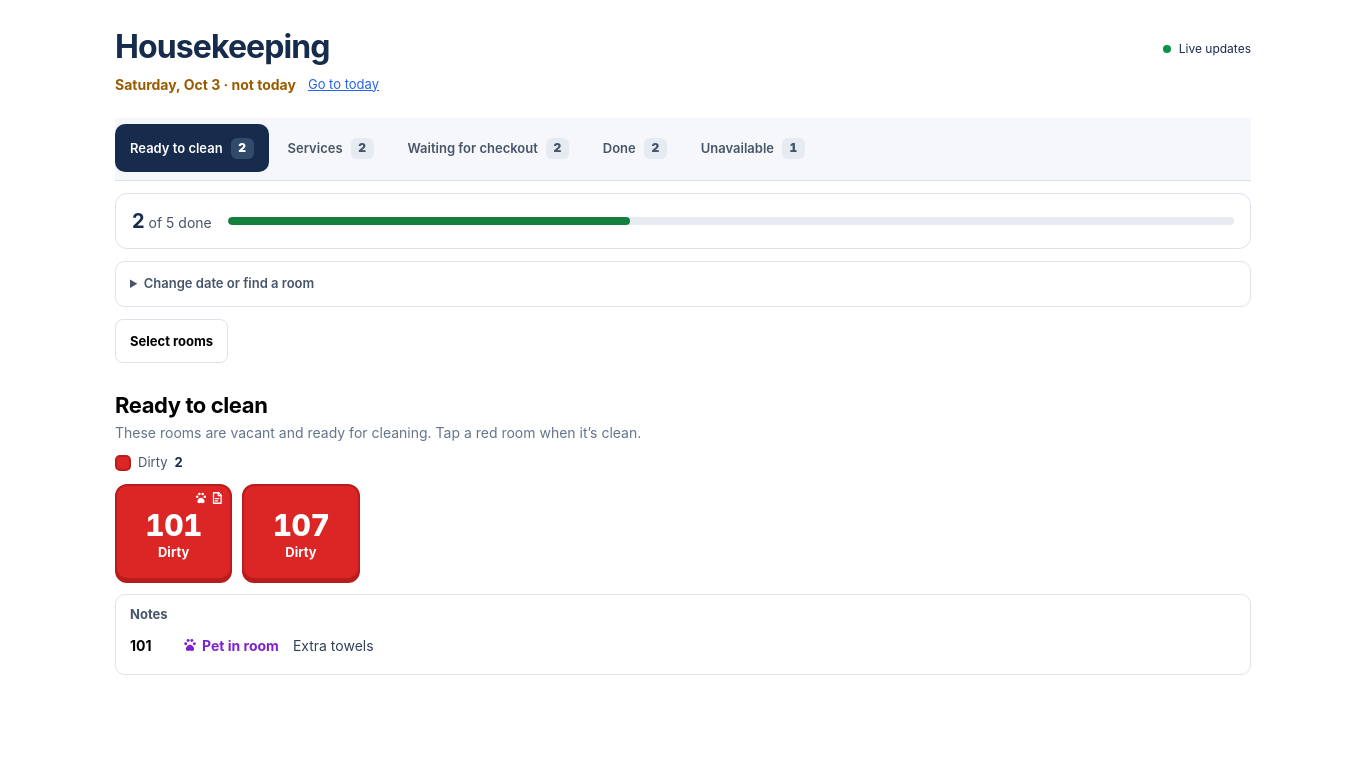
Scenario: selection uses room checkboxes and marks only selected ready rooms clean together
The image size is (1366, 765).
Check: the list item with aria-label "Room 101, Dirty" is shown, box [115,484,232,580]
Click the button "Select rooms" at (172, 341), box [115,319,228,363]
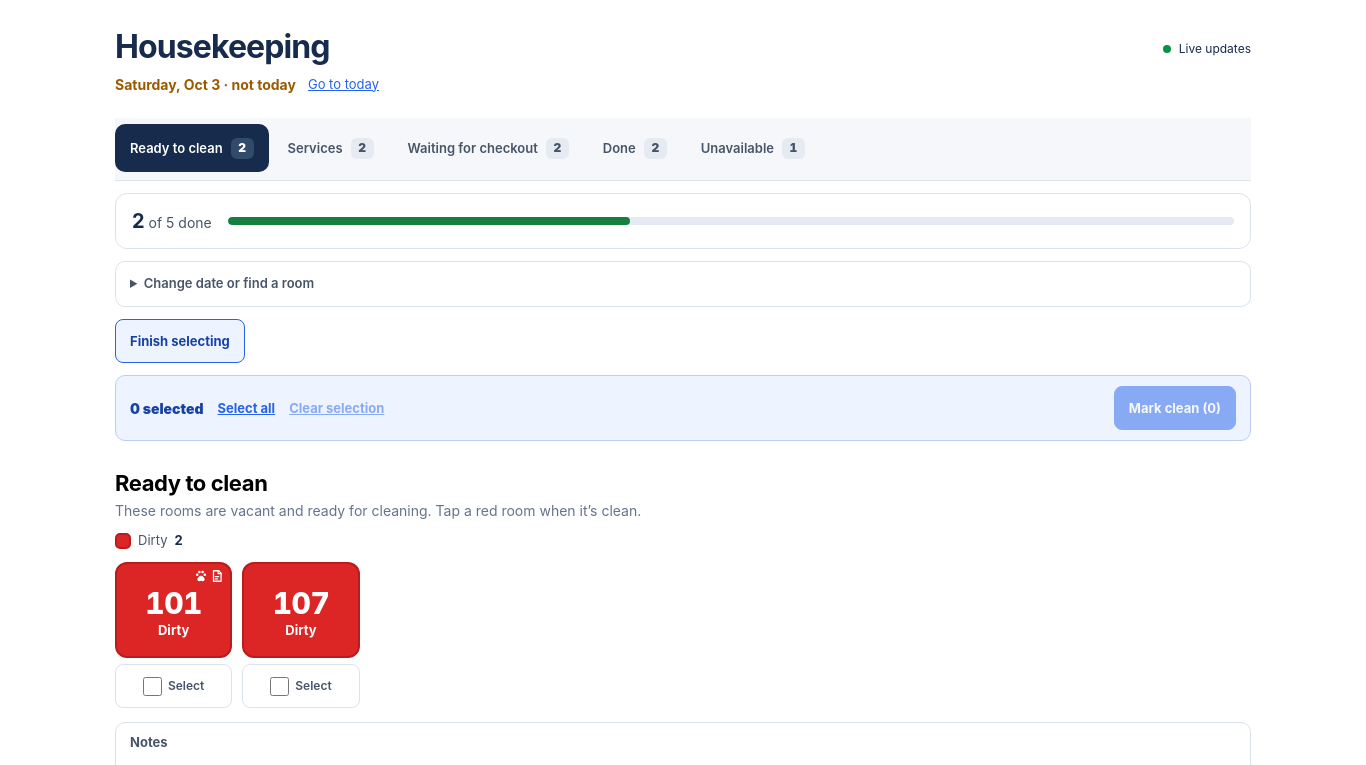
Check: the button with aria-label "Select rooms" is pressed, box [115,319,245,363]
Click the checkbox named "Select room 101" at (152, 686), box [143,677,162,696]
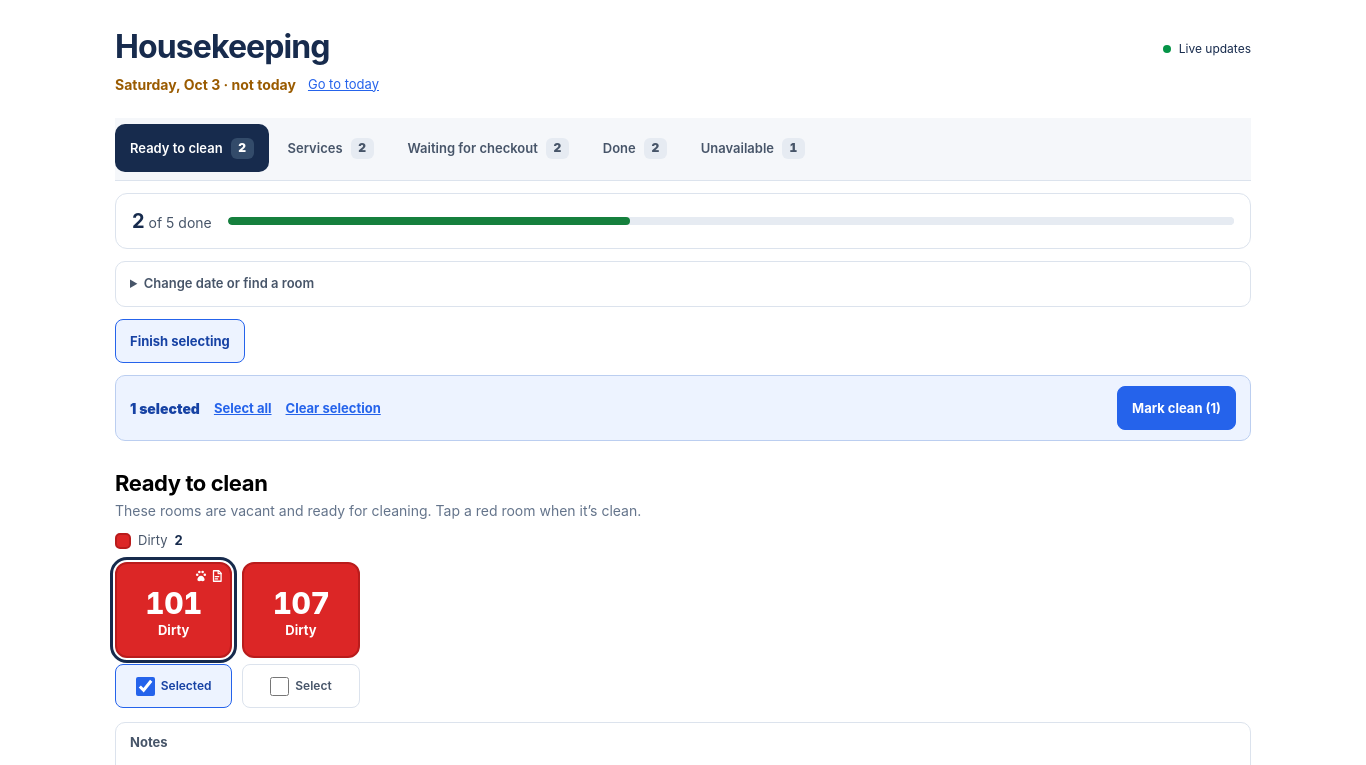
Check: the checkbox named "Select room 107" is not checked, box [270,677,289,696]
Check: the element named "Selected rooms" shows "1 selected", box [115,375,1251,441]
Click the button with aria-label "Select all visible rooms" at (243, 408), box [214,386,272,430]
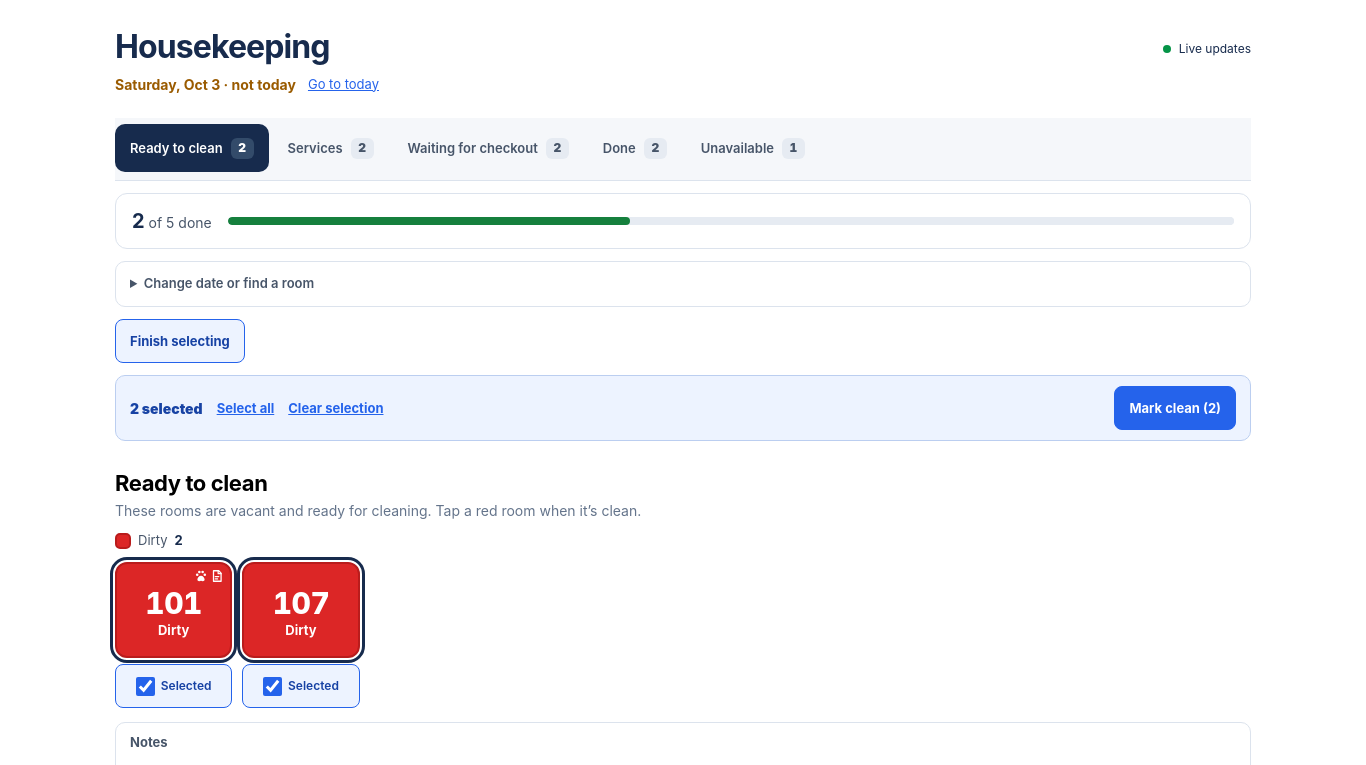
Click the button with aria-label "Mark selected rooms clean" at (1175, 408), box [1114,386,1236,430]
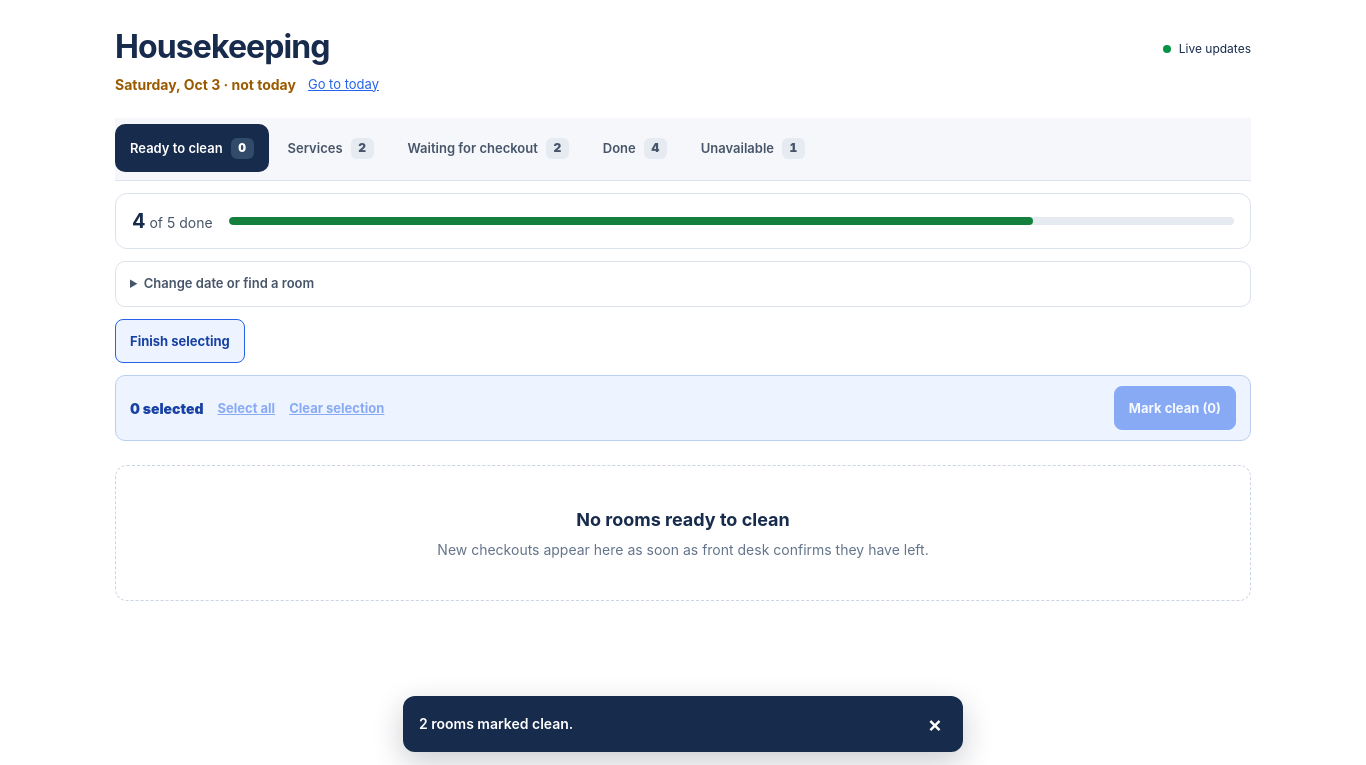
Check: the text "2 rooms marked clean." is shown, box [419,715,573,732]
Check: the heading "No rooms ready to clean" is shown, box [576,509,790,530]
Check: the element named "Selected rooms" shows "0 selected", box [115,375,1251,441]
